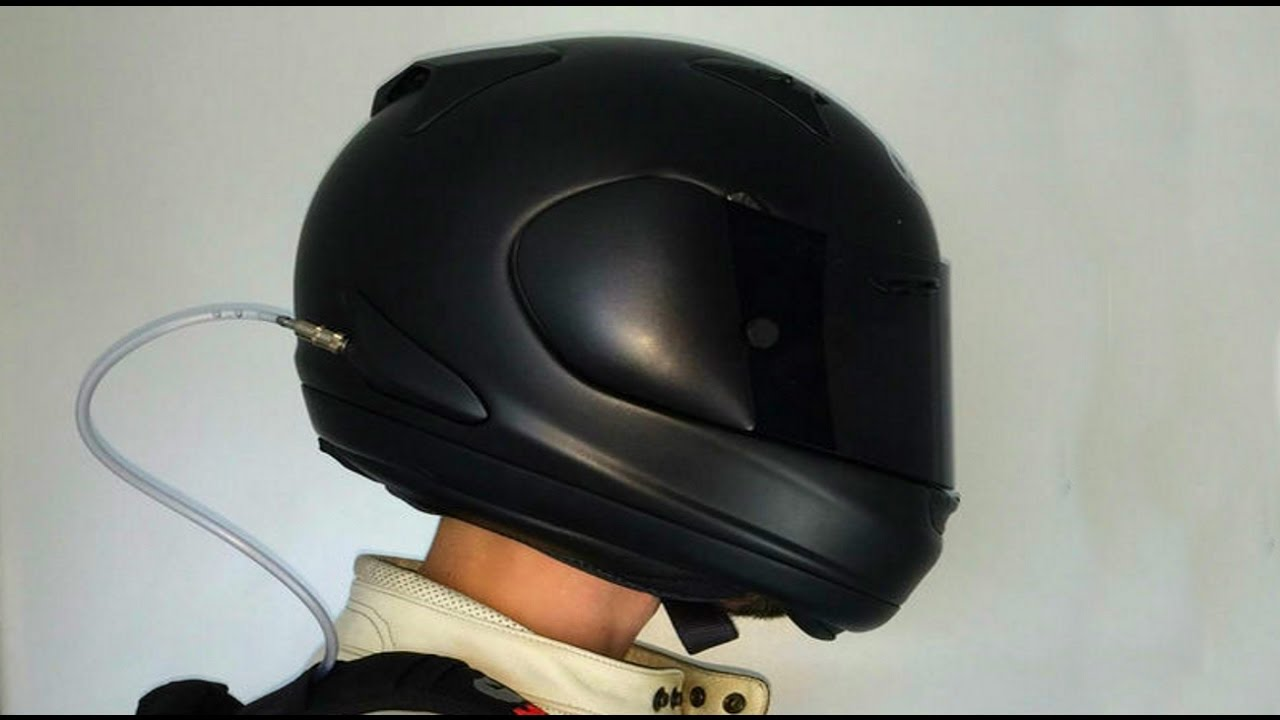with_helmet: (283, 25, 990, 648)
